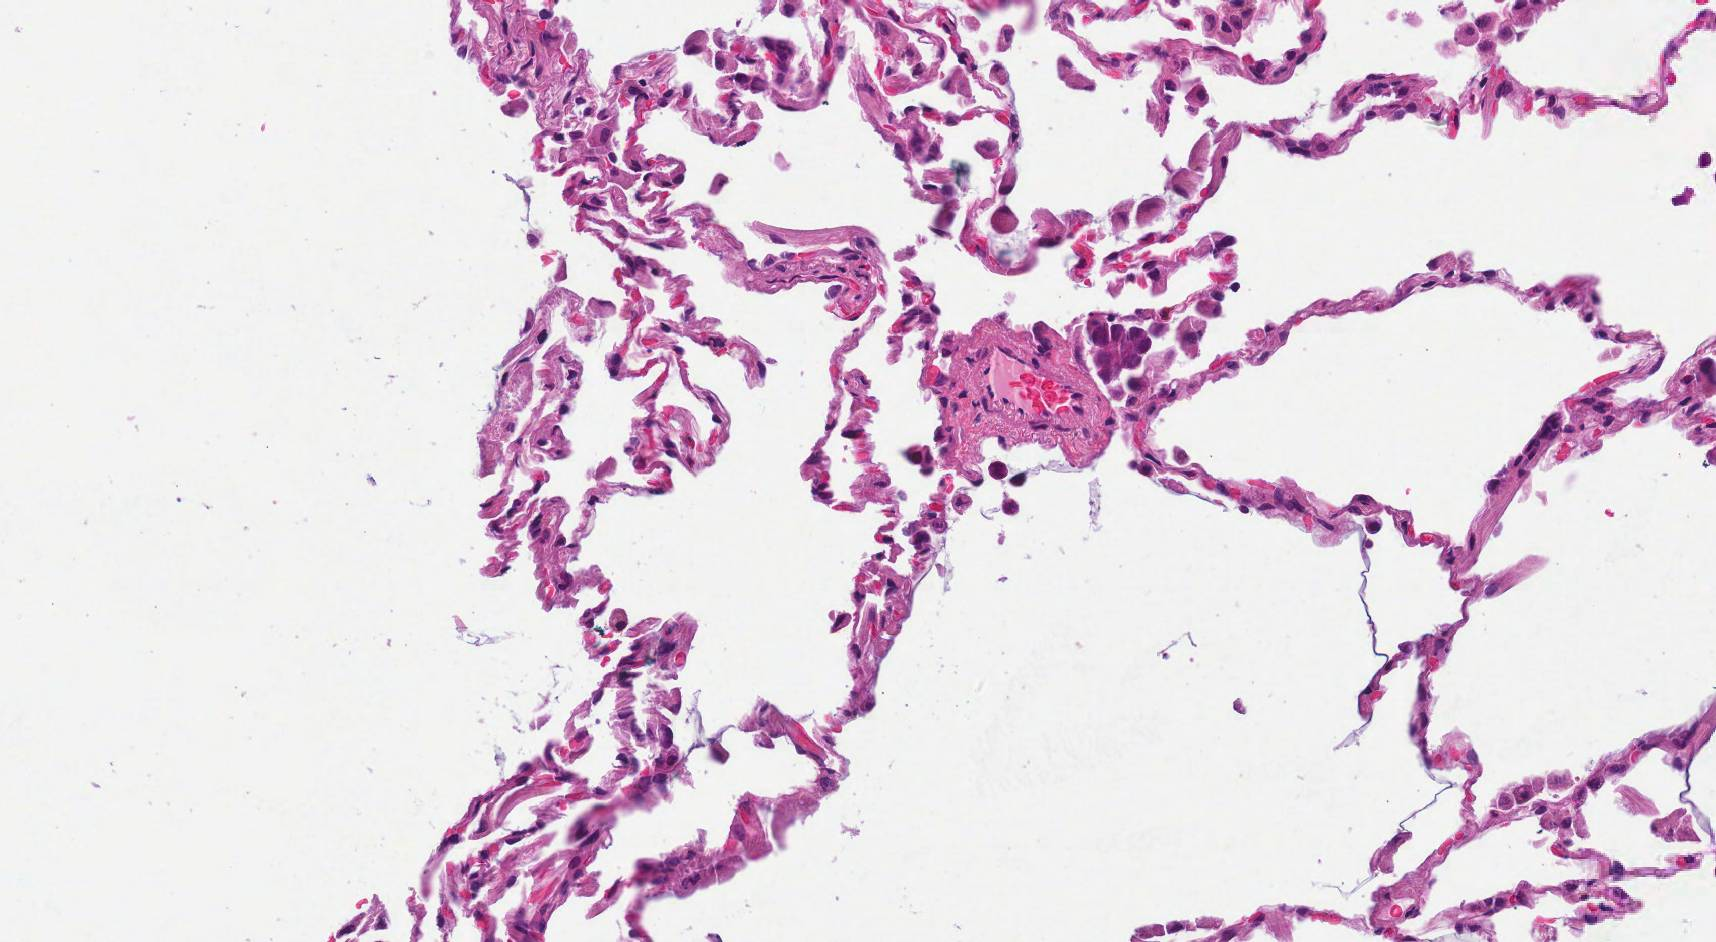stas: (1087, 323, 1153, 383)
